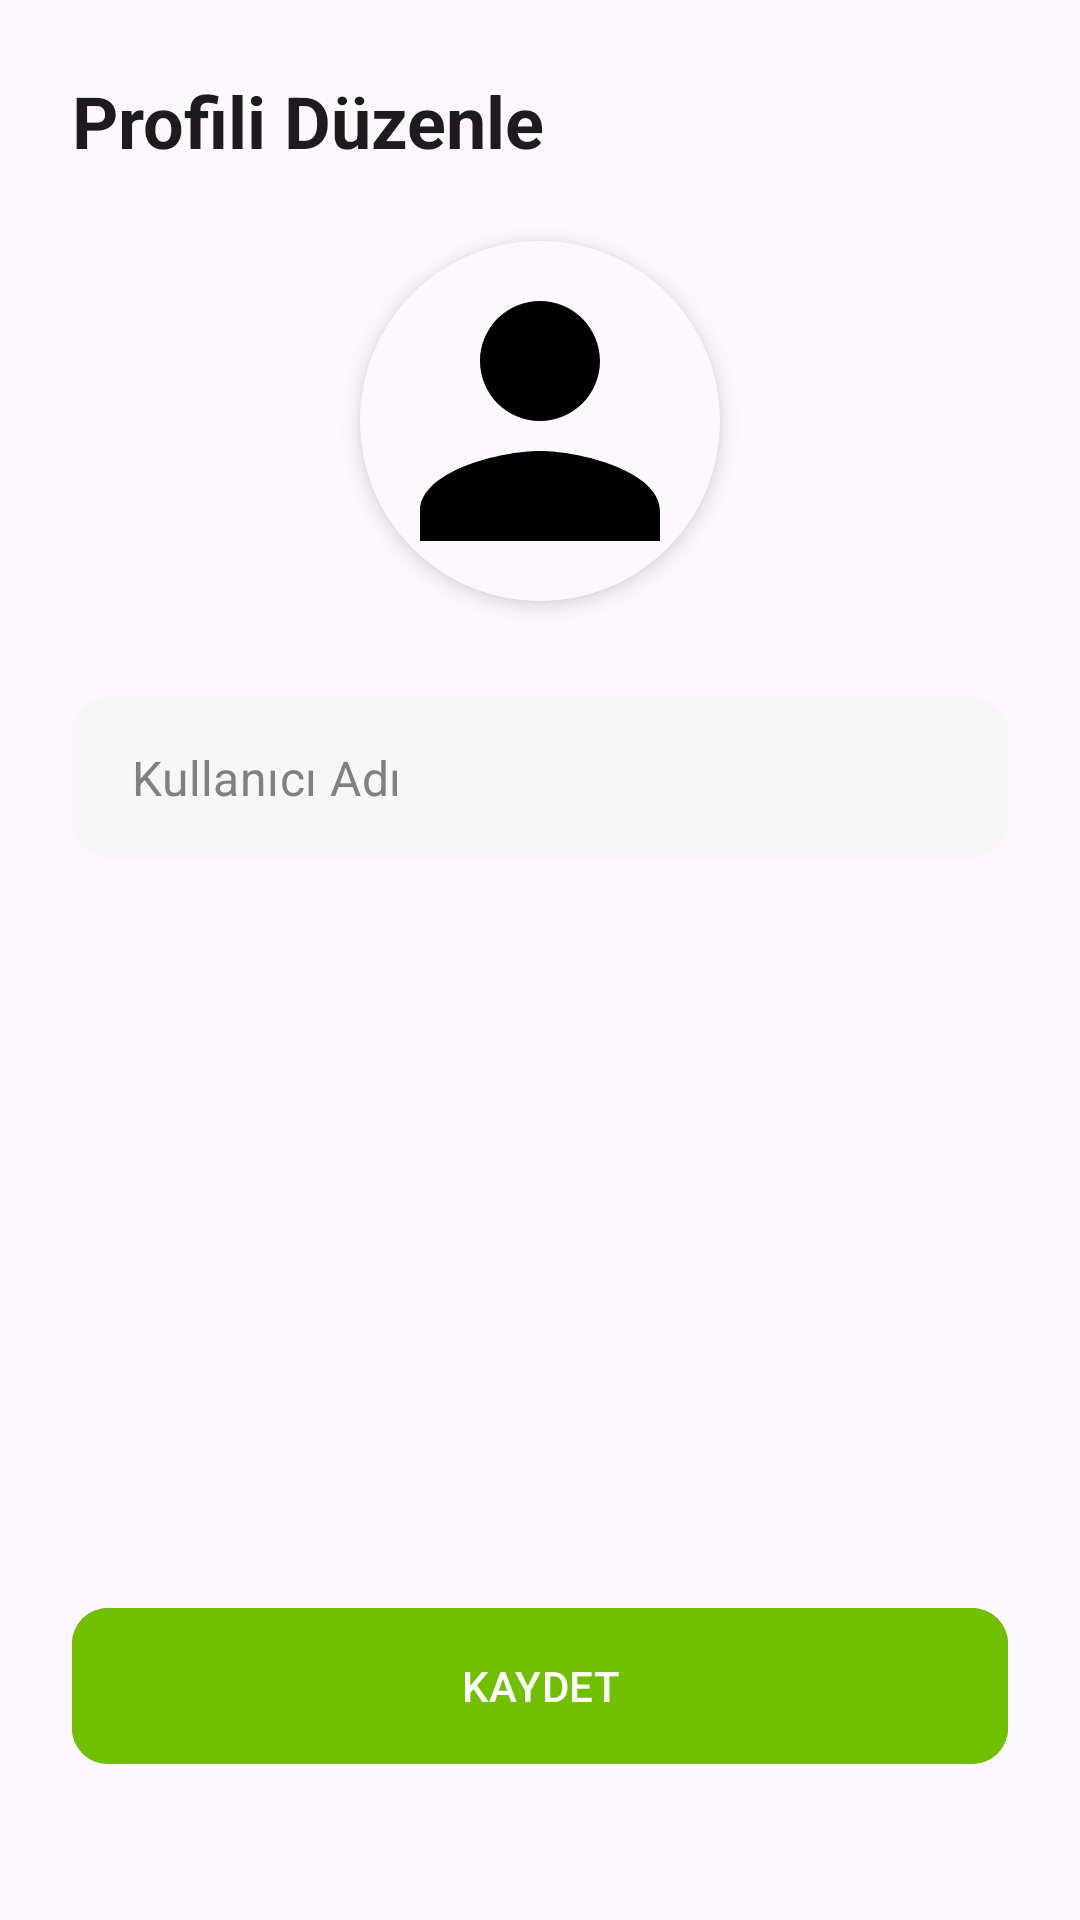

Named icons in this screenshot (1080x1920) and their bounding boxes, bbox=(x1, y1, x2, y2):
Profil Fotoğrafı: bbox=(367, 301, 713, 601)
